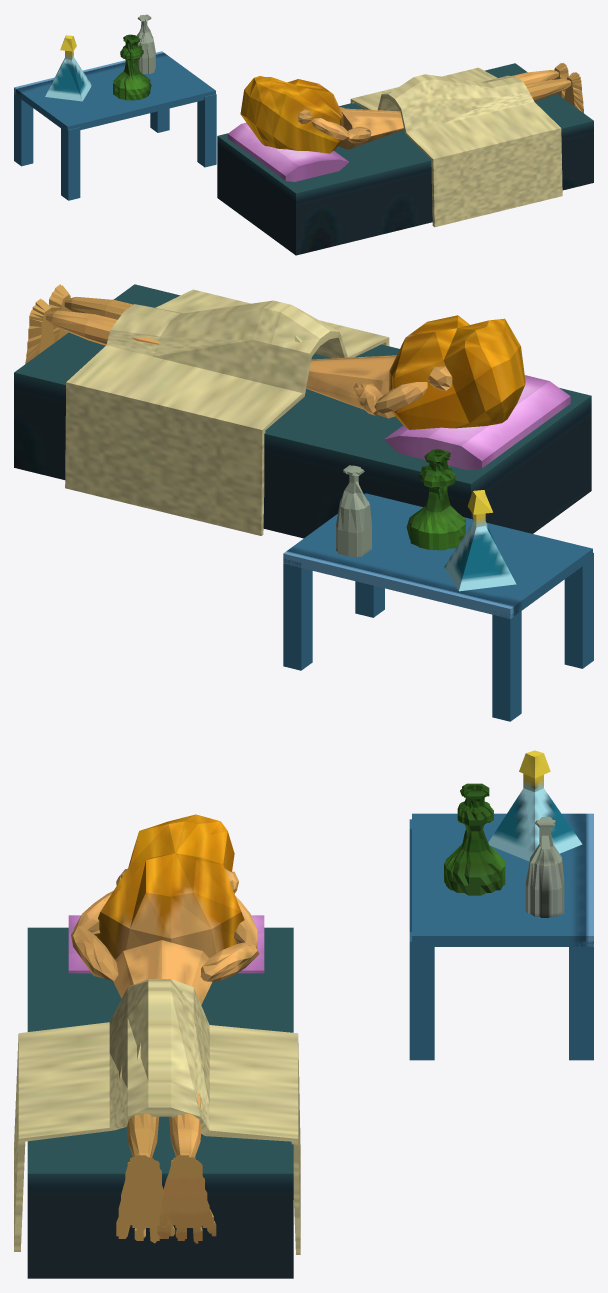
Rendered from Lotion.glb.
The picture shows the model from 3 angles, top to bottom: view 1: azimuth 30°, elevation 25°; view 2: azimuth 150°, elevation 25°; view 3: azimuth 270°, elevation 25°; orthographic projection. The views are drawn at different scales.
Parts seen in each view (by area): view 1: Lotion; view 2: Lotion; view 3: Lotion.
Part boxes in pixels (x1,y1,x2,y2): Lotion: (14,14,593,255); Lotion: (14,284,593,721); Lotion: (14,750,593,1278).
Size of the model in its own units: 76.19 by 23.55 by 52.71.
1 material, 1 textured.
